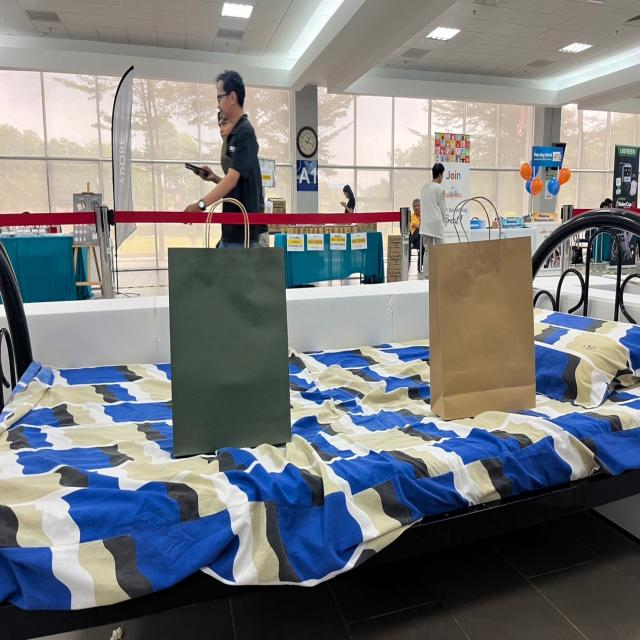bag: (174, 197, 285, 435), (442, 205, 532, 406)
